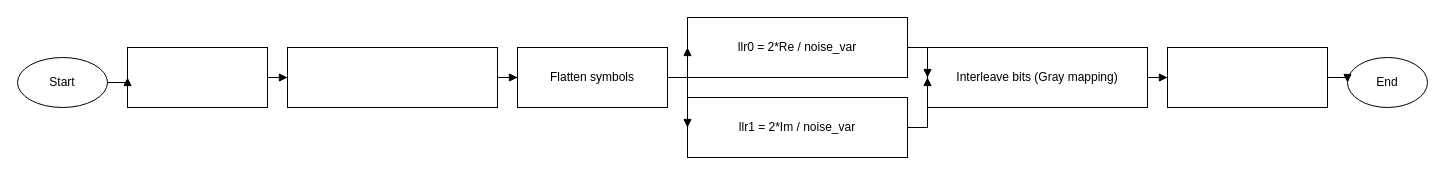
Some shapes in this 1445 by 175 pixel diagram are drawn without their labels. Here are the shapes that lost their labels. From the top down, the centre of each, then its label:
At (x=197, y=77): "qpsk_llrs".
At (x=392, y=77): "Input: pbch_eq, noise_var".
At (x=1247, y=77): "Output LLR array".
